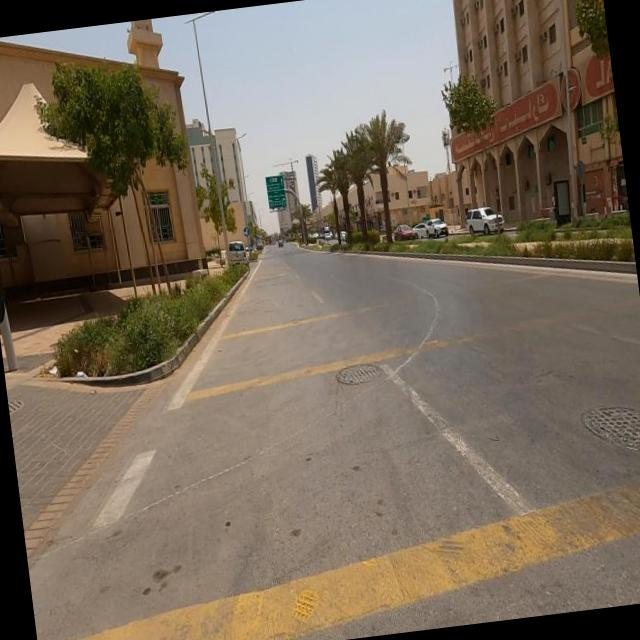debris: (406, 38, 624, 194)
